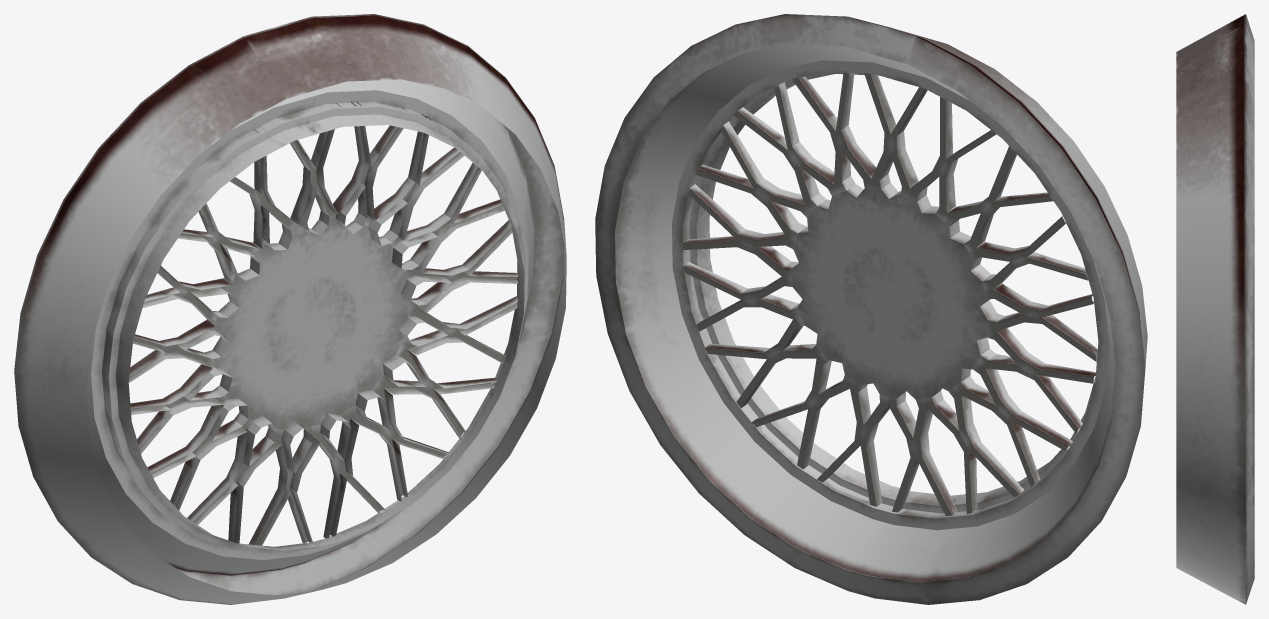
The model's file is Prop_Rim_4.fbx.
3 renders of one model, left to right at view 1: azimuth 30°, elevation 25°; view 2: azimuth 150°, elevation 25°; view 3: azimuth 270°, elevation 25°, orthographic. The views are drawn at different scales.
Parts seen in each view (by area): view 1: Prop_Rim_4; view 2: Prop_Rim_4; view 3: Prop_Rim_4.
Boxes of the visible parts, x1,y1,x2,y2 form: Prop_Rim_4: (14,14,566,604); Prop_Rim_4: (595,14,1147,604); Prop_Rim_4: (1176,14,1254,604).
Size of the model in its own units: 31.2 by 31.19 by 4.13.
